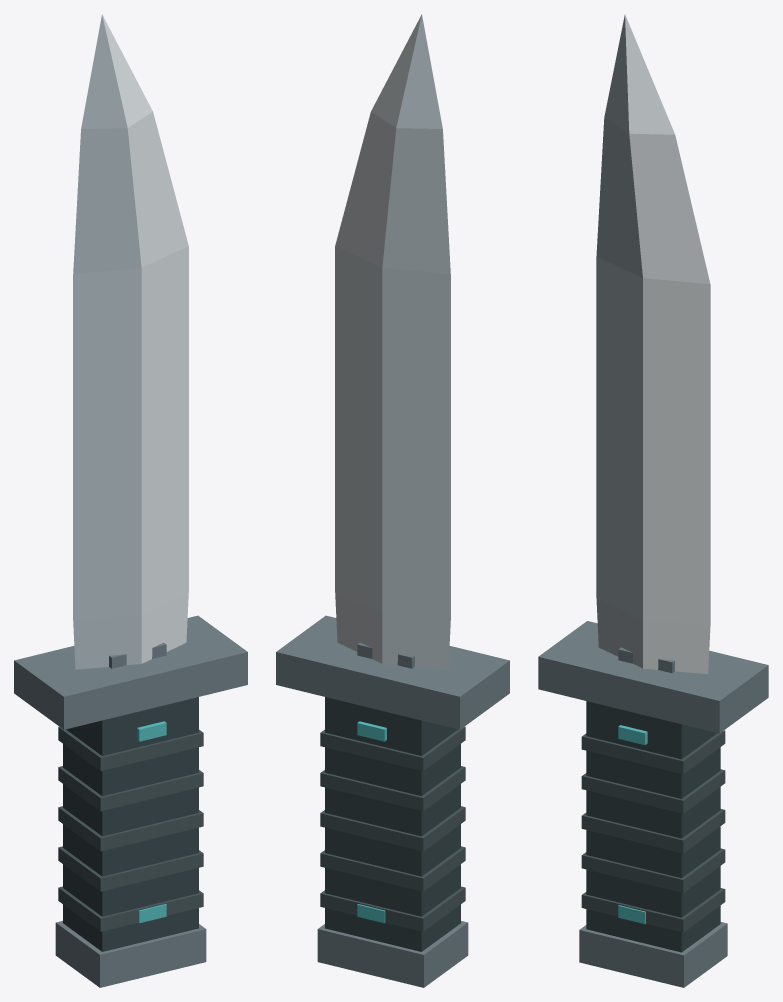
File: knife_material.glb
3 views of the same model, side by side, from view 1: azimuth 30°, elevation 25°; view 2: azimuth 150°, elevation 25°; view 3: azimuth 330°, elevation 25° (orthographic).
Parts seen in each view (by area): view 1: Knife_Material_Mesh; view 2: Knife_Material_Mesh; view 3: Knife_Material_Mesh.
Part boxes in pixels (x1,y1,x2,y2): Knife_Material_Mesh: (14,14,247,987); Knife_Material_Mesh: (276,14,509,987); Knife_Material_Mesh: (538,14,768,987).
Size of the model in its own units: 0.35 by 1.73 by 0.164.
